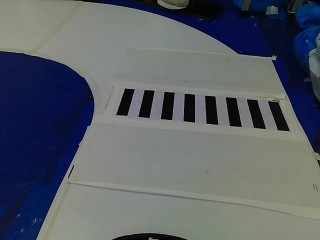crosswalk: (109, 80, 294, 134)
